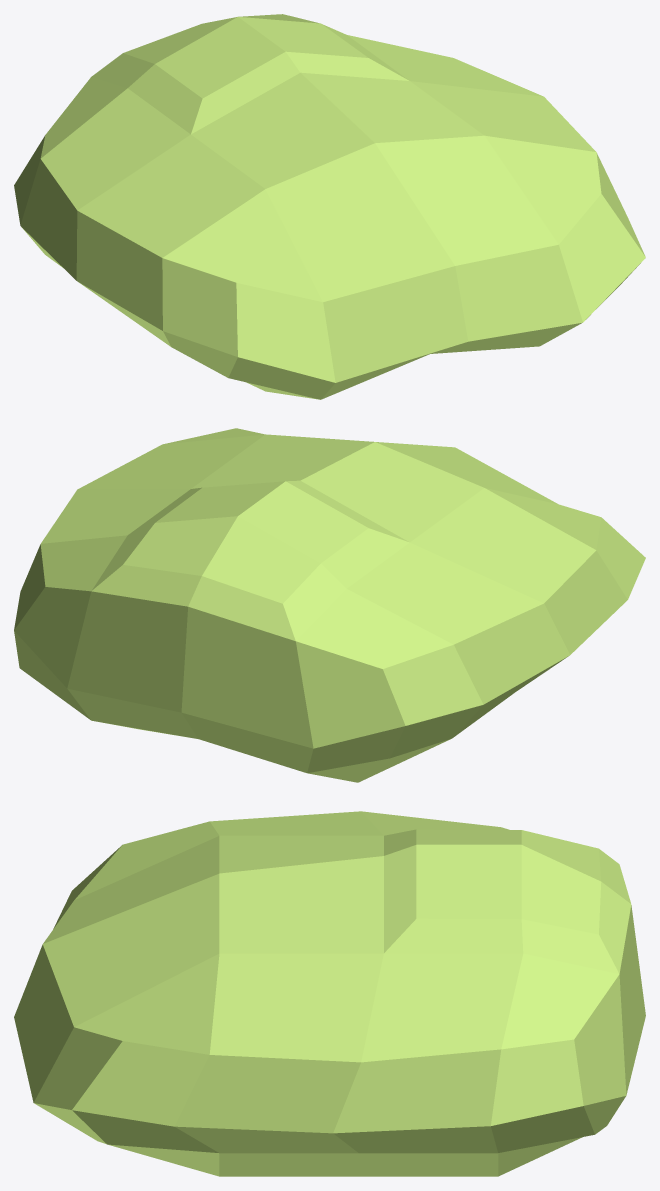
File: Shell_B.glb
3 renders of one model, top to bottom at view 1: azimuth 30°, elevation 25°; view 2: azimuth 150°, elevation 25°; view 3: azimuth 270°, elevation 25°, orthographic. The views are drawn at different scales.
Parts seen in each view (by area): view 1: Shell B; view 2: Shell B; view 3: Shell B.
Boxes of the visible parts, box(x1,y1,x2,y2) form: Shell B: box(14, 14, 645, 399); Shell B: box(14, 428, 645, 782); Shell B: box(14, 811, 645, 1176).
Bounding box in the file's own units: 2.25 × 1.08 × 2.27.
